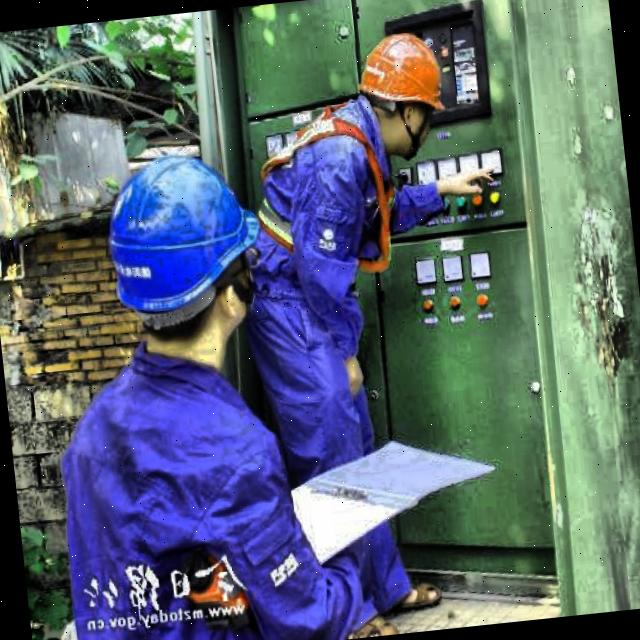helmet: (77, 122, 280, 381), (347, 14, 465, 171)
